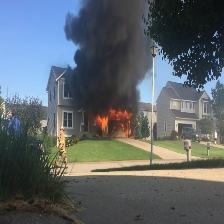fire: (93, 117, 110, 127)
smoke: (83, 10, 139, 104)
